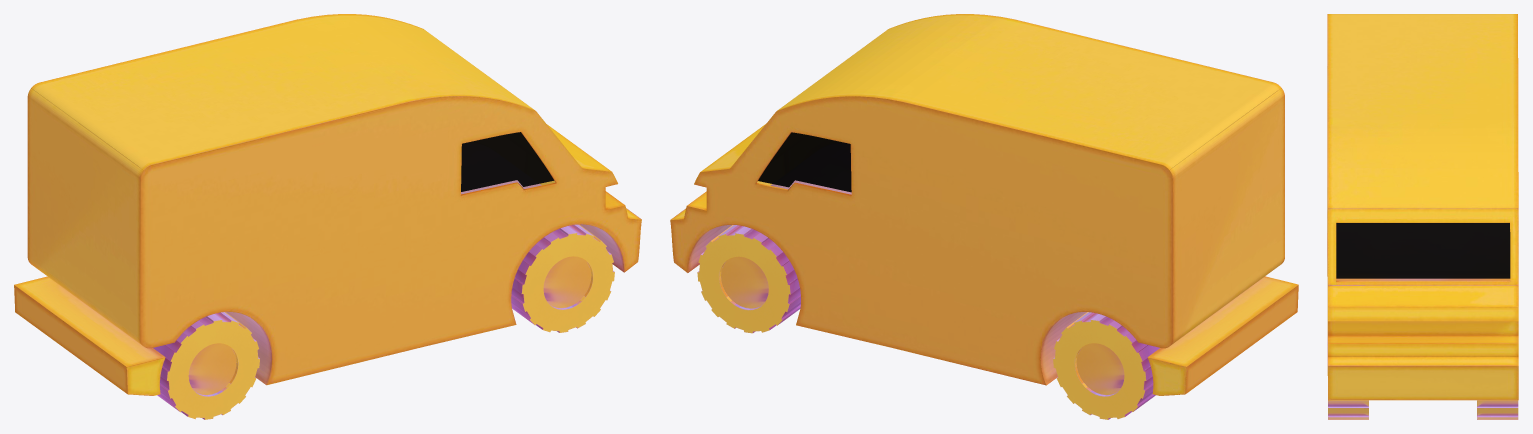
File: INCONOGRAPHY_Source_v4.glb
3 renders of one model, left to right at view 1: azimuth 30°, elevation 25°; view 2: azimuth 150°, elevation 25°; view 3: azimuth 270°, elevation 25°, orthographic. The views are drawn at different scales.
Parts seen in each view (by area): view 1: van, vanWheel_1, vanWheel_1.001; view 2: van, vanWheel_1.002, vanWheel_1.003; view 3: van, vanWheel_1.002, vanWheel_1.
Boxes of the visible parts, x1,y1,x2,y2 form: van: [14, 14, 641, 395]; vanWheel_1: [511, 224, 614, 332]; vanWheel_1.001: [153, 312, 259, 419]; van: [670, 14, 1298, 395]; vanWheel_1.002: [697, 225, 800, 333]; vanWheel_1.003: [1053, 312, 1159, 419]; van: [1327, 14, 1518, 400]; vanWheel_1.002: [1477, 400, 1518, 419]; vanWheel_1: [1328, 400, 1368, 419].
Bounding box in the file's own units: 0.9976 × 0.497 × 0.3779.
Materials: 5 (4 with a texture image).
